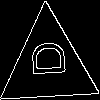D: (23, 39, 66, 78)
